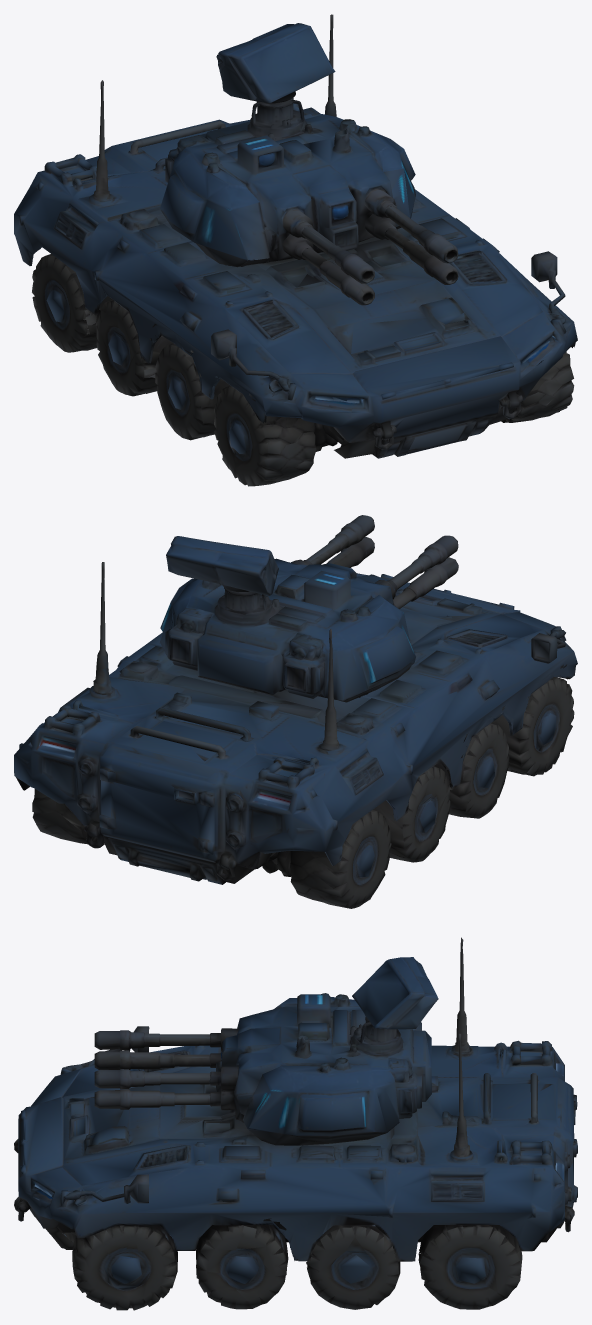
The model's file is A40_WATCHTOWER_LOD2.fbx.
The picture shows the model from 3 angles, top to bottom: view 1: azimuth 30°, elevation 25°; view 2: azimuth 150°, elevation 25°; view 3: azimuth 270°, elevation 25°; orthographic projection. The views are drawn at different scales.
Visible parts, largest first — view 1: Hull_LOD2, TurretArmor_LOD2, Wheel_L_Front_LOD2, RadarArray_LOD2, Wheel_L_Rear_LOD2, Wheel_L_MidFront_LOD2, Wheel_L_MidRear_LOD2, Wheel_R_Front_LOD2, Barrel_Upper_R_LOD2, Barrel_Upper_L_LOD2, Barrel_Lower_L_LOD2, Barrel_Lower_R_LOD2; view 2: Hull_LOD2, TurretArmor_LOD2, Wheel_L_Rear_LOD2, Wheel_L_Front_LOD2, RadarArray_LOD2, Wheel_L_MidRear_LOD2, Wheel_L_MidFront_LOD2, Wheel_R_Rear_LOD2, Barrel_Upper_L_LOD2, Barrel_Upper_R_LOD2, Barrel_Lower_L_LOD2, Barrel_Lower_R_LOD2; view 3: Hull_LOD2, TurretArmor_LOD2, Wheel_R_Front_LOD2, Wheel_R_Rear_LOD2, Wheel_R_MidFront_LOD2, Wheel_R_MidRear_LOD2, RadarArray_LOD2, Barrel_Upper_L_LOD2, Barrel_Upper_R_LOD2, Barrel_Lower_R_LOD2, Barrel_Lower_L_LOD2.
Boxes of the visible parts, x1,y1,x2,y2 form: Hull_LOD2: [14, 14, 577, 458]; TurretArmor_LOD2: [160, 101, 415, 267]; Wheel_L_Front_LOD2: [211, 376, 326, 486]; RadarArray_LOD2: [216, 23, 335, 114]; Wheel_L_Rear_LOD2: [30, 247, 112, 352]; Wheel_L_MidFront_LOD2: [149, 334, 229, 440]; Wheel_L_MidRear_LOD2: [96, 295, 172, 396]; Wheel_R_Front_LOD2: [501, 351, 574, 422]; Barrel_Upper_R_LOD2: [385, 206, 458, 263]; Barrel_Upper_L_LOD2: [302, 226, 374, 283]; Barrel_Lower_L_LOD2: [319, 260, 374, 305]; Barrel_Lower_R_LOD2: [403, 240, 458, 284]; Hull_LOD2: [14, 561, 577, 884]; TurretArmor_LOD2: [160, 558, 415, 702]; Wheel_L_Rear_LOD2: [272, 810, 391, 908]; Wheel_L_Front_LOD2: [491, 667, 574, 776]; RadarArray_LOD2: [166, 536, 278, 601]; Wheel_L_MidRear_LOD2: [373, 761, 452, 862]; Wheel_L_MidFront_LOD2: [434, 714, 512, 818]; Wheel_R_Rear_LOD2: [32, 789, 97, 844]; Barrel_Upper_L_LOD2: [389, 535, 458, 589]; Barrel_Upper_R_LOD2: [306, 515, 374, 564]; Barrel_Lower_L_LOD2: [403, 557, 458, 600]; Barrel_Lower_R_LOD2: [327, 537, 374, 567]; Hull_LOD2: [14, 937, 577, 1261]; TurretArmor_LOD2: [209, 993, 431, 1145]; Wheel_R_Front_LOD2: [72, 1225, 177, 1310]; Wheel_R_Rear_LOD2: [418, 1225, 522, 1309]; Wheel_R_MidFront_LOD2: [196, 1221, 297, 1309]; Wheel_R_MidRear_LOD2: [306, 1225, 400, 1309]; RadarArray_LOD2: [352, 957, 438, 1029]; Barrel_Upper_L_LOD2: [94, 1030, 209, 1050]; Barrel_Upper_R_LOD2: [94, 1069, 210, 1088]; Barrel_Lower_R_LOD2: [94, 1089, 174, 1109]; Barrel_Lower_L_LOD2: [94, 1050, 174, 1069].
Size of the model in its own units: 4.7 by 3.87 by 7.1.
1 material, 1 textured.
